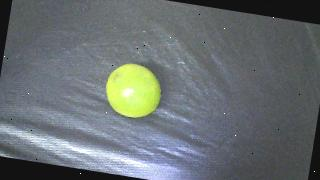LOCAL: (102, 60, 165, 121)
